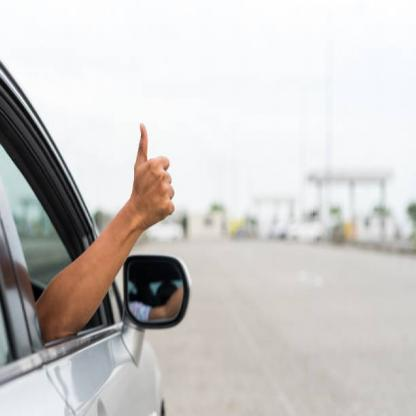thumb_up: (126, 118, 178, 228)
